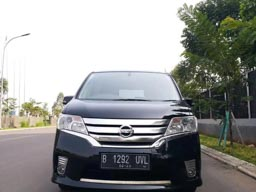plat: (99, 152, 149, 164)
